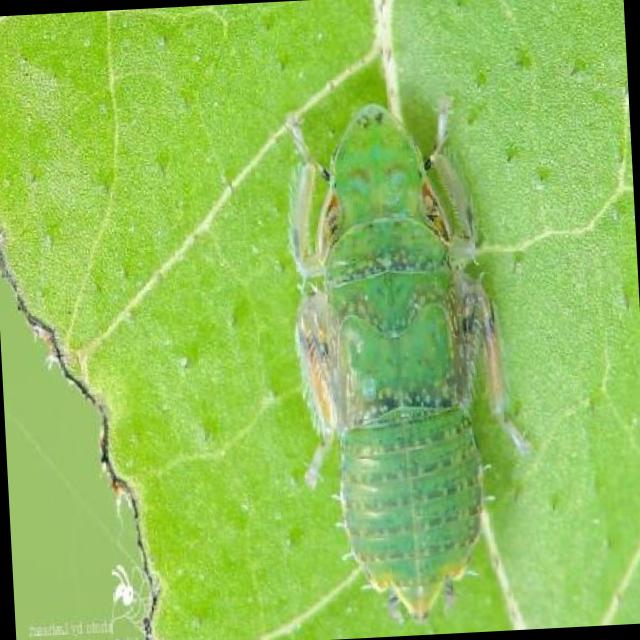green-leafhopper: (286, 100, 512, 617)
